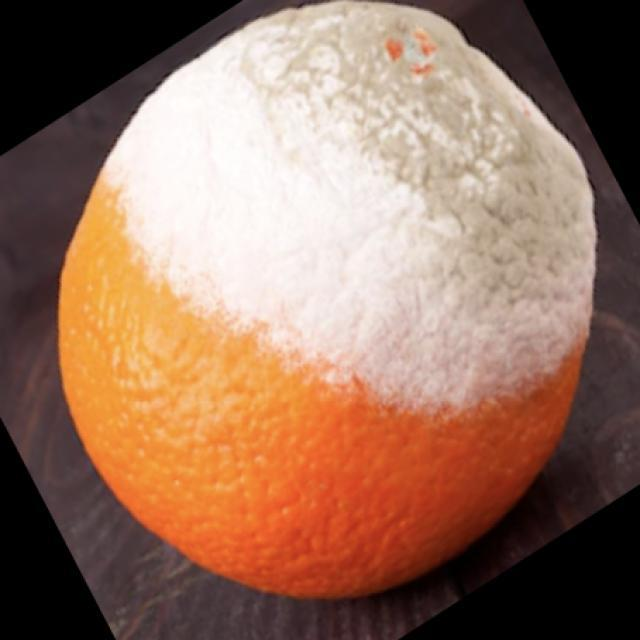sangat-busuk: (59, 1, 595, 597), (104, 3, 595, 404)
